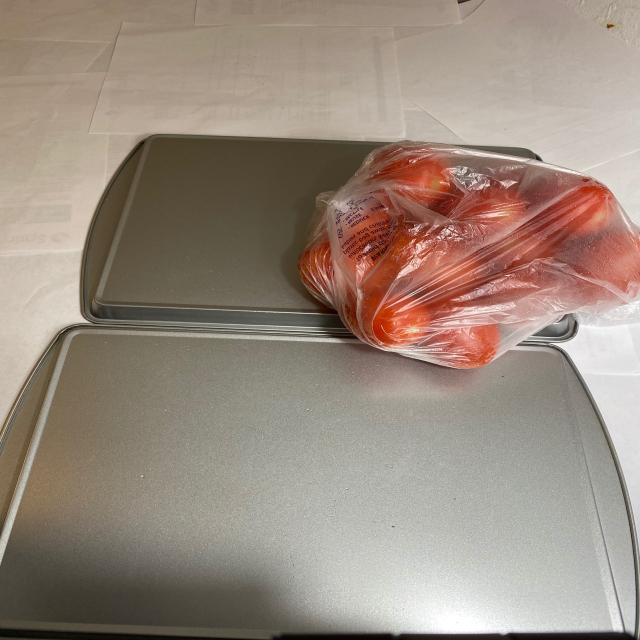tomato: (298, 143, 640, 363)
